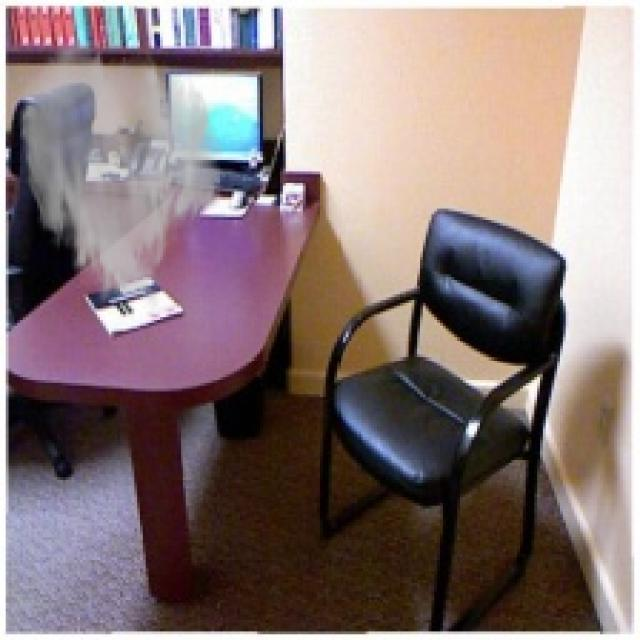Smoke: (17, 37, 226, 314)
